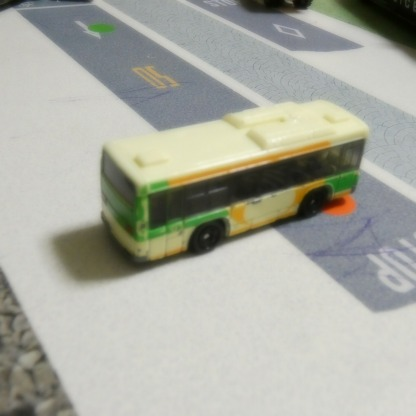car: (99, 99, 367, 277)
